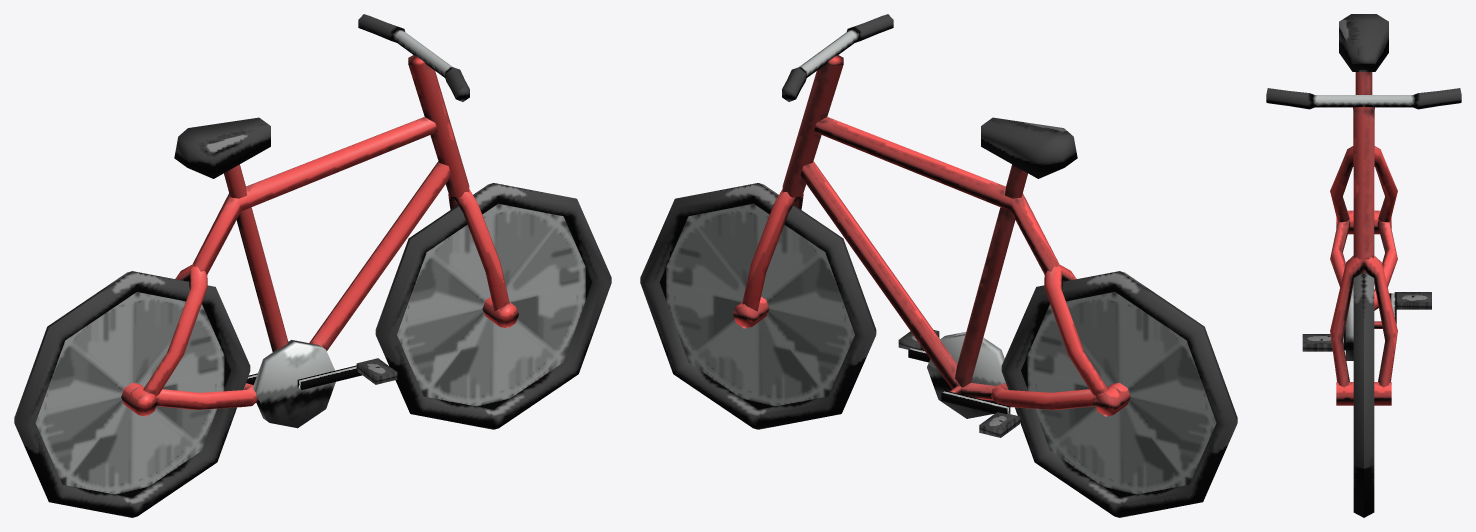
Rendered from Bike.fbx.
3 renders of one model, left to right at view 1: azimuth 30°, elevation 25°; view 2: azimuth 150°, elevation 25°; view 3: azimuth 270°, elevation 25°, orthographic. The views are drawn at different scales.
Visible parts, largest first — view 1: polySurface8, polySurface7, polySurface2; view 2: polySurface8, polySurface7, polySurface2; view 3: polySurface8.
Part boxes in pixels (bbox=[...]): polySurface8: bbox=[14, 14, 611, 517]; polySurface7: bbox=[397, 204, 592, 409]; polySurface2: bbox=[35, 292, 230, 497]; polySurface8: bbox=[640, 14, 1237, 517]; polySurface7: bbox=[659, 204, 854, 409]; polySurface2: bbox=[1021, 292, 1216, 497]; polySurface8: bbox=[1266, 14, 1461, 517].
Bounding box in the file's own units: 186 × 119 × 54.36.
